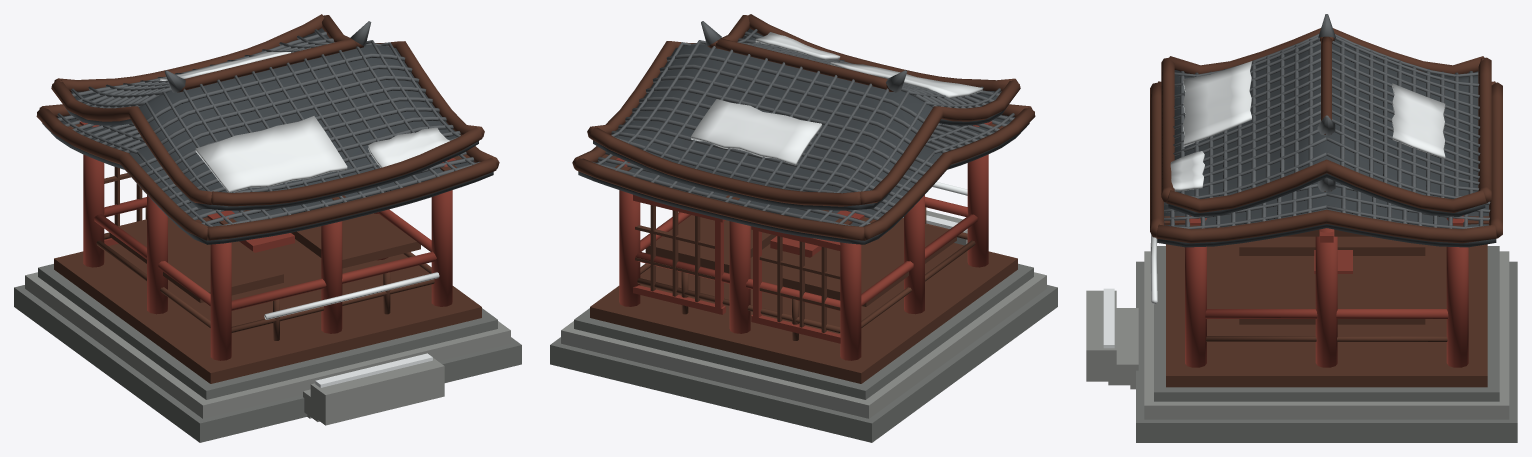
File: about.glb
3 views of the same model, side by side, from view 1: azimuth 30°, elevation 25°; view 2: azimuth 150°, elevation 25°; view 3: azimuth 270°, elevation 25° (orthographic). The views are drawn at different scales.
Visible parts, largest first — view 1: about_building, snow_about_winter; view 2: about_building, snow_about_winter; view 3: about_building, snow_about_winter.
Boxes of the visible parts, left/top/right/bottom form: about_building: left=14, top=14, right=521, bottom=442; snow_about_winter: left=160, top=52, right=449, bottom=387; about_building: left=550, top=14, right=1057, bottom=442; snow_about_winter: left=691, top=32, right=982, bottom=232; about_building: left=1086, top=14, right=1517, bottom=442; snow_about_winter: left=1103, top=61, right=1445, bottom=348.
Bounding box in the file's own units: 5.54 × 4.77 × 6.26.
